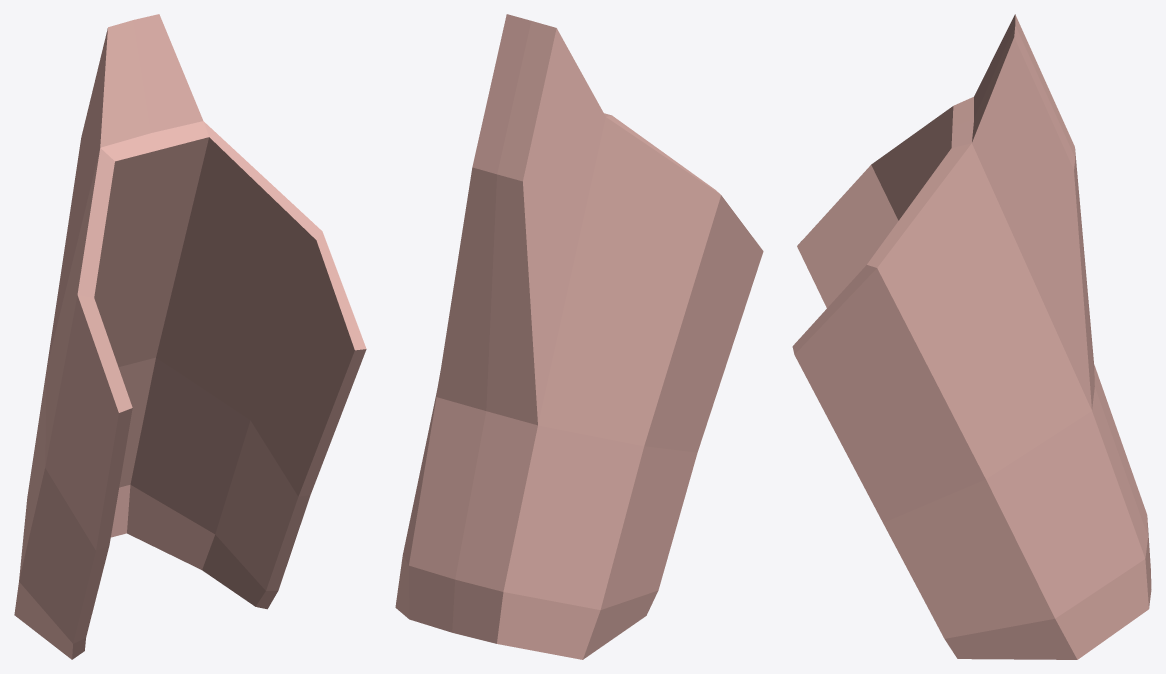
Rendered from cb_lower_arm_2.gltf.
3 views of the same model, side by side, from view 1: azimuth 30°, elevation 25°; view 2: azimuth 150°, elevation 25°; view 3: azimuth 270°, elevation 25° (orthographic).
Parts seen in each view (by area): view 1: Sphere.004; view 2: Sphere.004; view 3: Sphere.004.
Part boxes in pixels (bbox=[...]): Sphere.004: bbox=[14, 14, 366, 659]; Sphere.004: bbox=[395, 14, 763, 659]; Sphere.004: bbox=[792, 14, 1151, 659].
Size of the model in its own units: 1.21 by 2.83 by 1.56.
